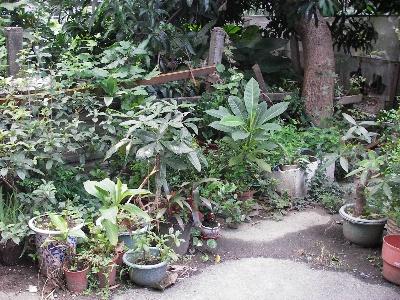bucket: (379, 234, 400, 285)
